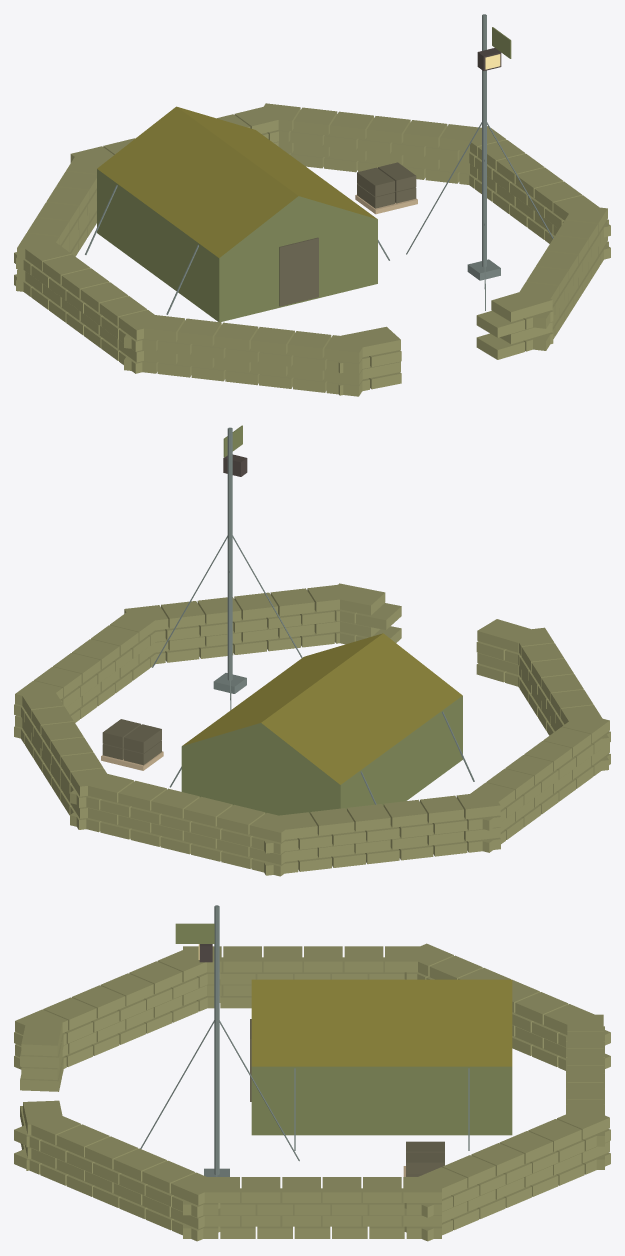
Rendered from SM_PuestoFrente_v0_LOD0.fbx.
3 views of the same model, one above another, from view 1: azimuth 30°, elevation 25°; view 2: azimuth 150°, elevation 25°; view 3: azimuth 270°, elevation 25° (orthographic). The views are drawn at different scales.
Parts seen in each view (by area): view 1: SM_bloques.puesto_frente_v0_LOD0; view 2: SM_bloques.puesto_frente_v0_LOD0; view 3: SM_bloques.puesto_frente_v0_LOD0.
Boxes of the visible parts, x1,y1,x2,y2 form: SM_bloques.puesto_frente_v0_LOD0: (14, 14, 610, 396); SM_bloques.puesto_frente_v0_LOD0: (14, 425, 610, 876); SM_bloques.puesto_frente_v0_LOD0: (14, 905, 610, 1241).
Size of the model in its own units: 13.74 by 7 by 13.74.
